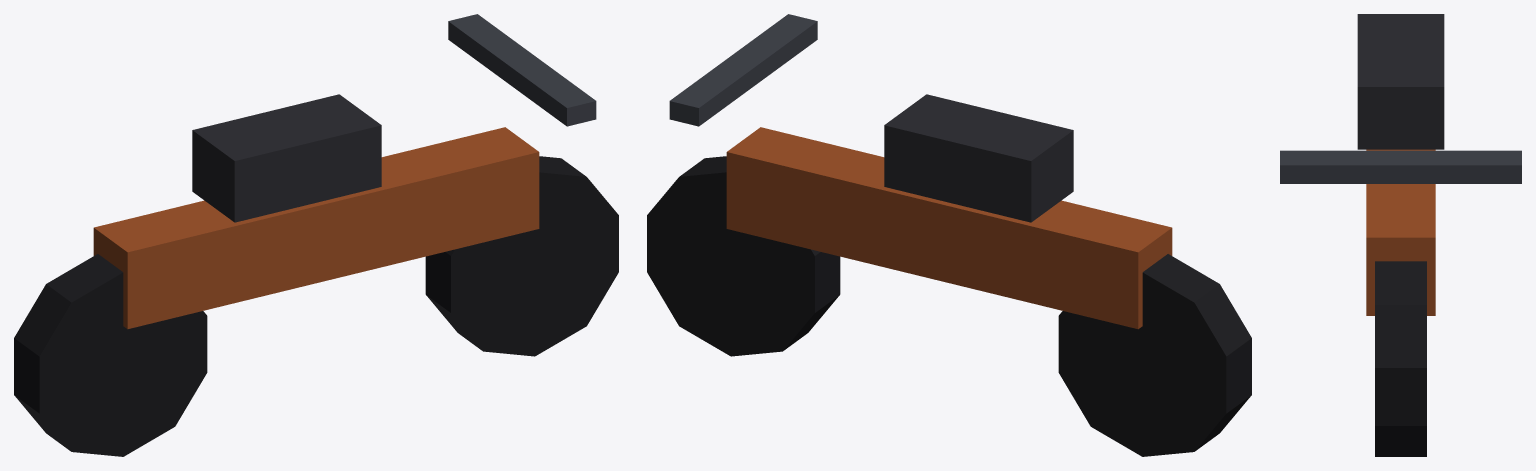
File: tipped_motorbike.glb
3 renders of one model, left to right at view 1: azimuth 30°, elevation 25°; view 2: azimuth 150°, elevation 25°; view 3: azimuth 270°, elevation 25°, orthographic.
Visible parts, largest first — view 1: tipped_motorbike; view 2: tipped_motorbike; view 3: tipped_motorbike.
Part boxes in pixels (x1,y1,x2,y2): tipped_motorbike: (14,14,618,456); tipped_motorbike: (647,14,1251,456); tipped_motorbike: (1280,14,1521,456).
Bounding box in the file's own units: 1.97 × 0.93 × 0.7.
